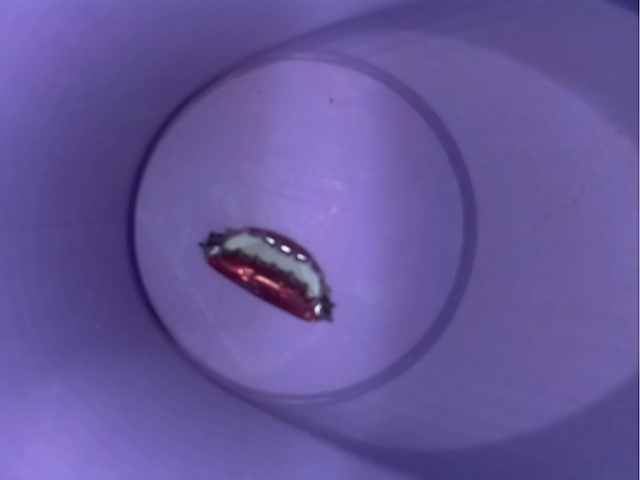capsule: (182, 216, 350, 332)
